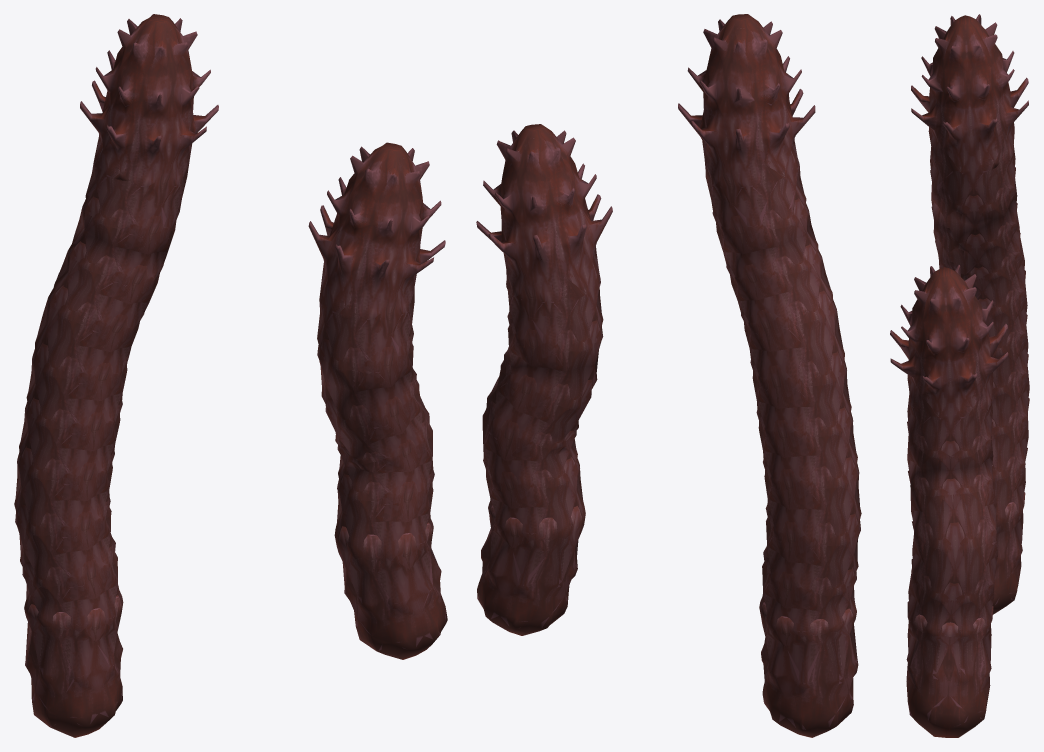
Rendered from GiantFernReduxfbx.fbx.
3 views of the same model, side by side, from view 1: azimuth 30°, elevation 25°; view 2: azimuth 150°, elevation 25°; view 3: azimuth 270°, elevation 25° (orthographic). The views are drawn at different scales.
Visible parts, largest first — view 1: FernTall1.001, FernTall2.001; view 2: FernTall1.001, FernTall2.001; view 3: FernTall2.001, FernTall1.001.
Boxes of the visible parts, left/top/right/bottom form: FernTall1.001: left=14, top=14, right=218, bottom=737; FernTall2.001: left=308, top=142, right=447, bottom=659; FernTall1.001: left=678, top=14, right=861, bottom=737; FernTall2.001: left=476, top=124, right=612, bottom=635; FernTall2.001: left=890, top=265, right=1008, bottom=737; FernTall1.001: left=911, top=14, right=1029, bottom=614.
Bounding box in the file's own units: 4.75 × 8.03 × 1.62.
Materials: 2 (2 with a texture image).
